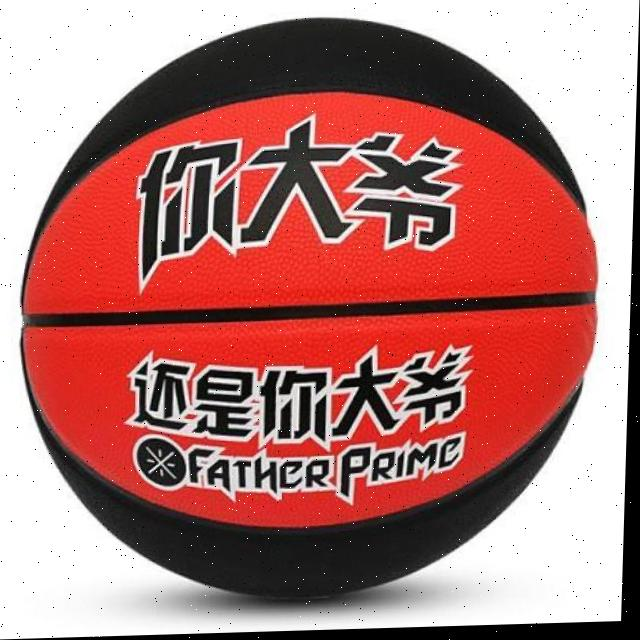Basketball: (14, 7, 609, 605)
